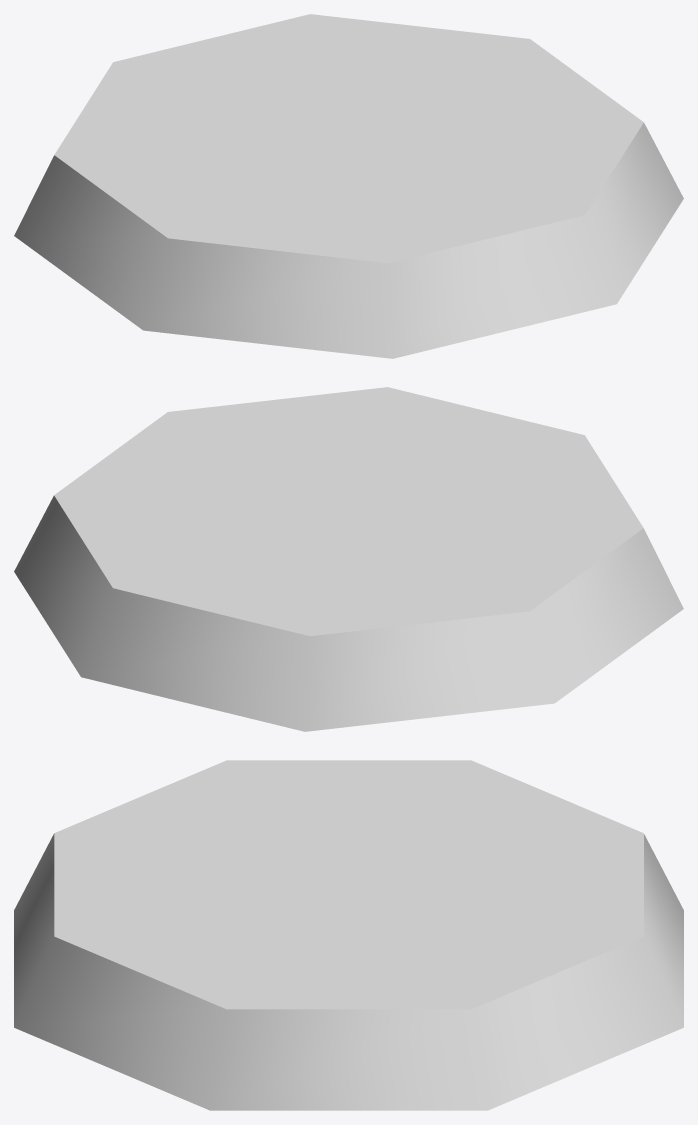
The model's file is Itr_Barchair_Base_06.FBX.
The picture shows the model from 3 angles, top to bottom: view 1: azimuth 30°, elevation 25°; view 2: azimuth 150°, elevation 25°; view 3: azimuth 270°, elevation 25°; orthographic projection. The views are drawn at different scales.
Visible parts, largest first — view 1: Itr_Barchair_Base_06; view 2: Itr_Barchair_Base_06; view 3: Itr_Barchair_Base_06.
Part boxes in pixels (x1,y1,x2,y2): Itr_Barchair_Base_06: (14, 14, 683, 358); Itr_Barchair_Base_06: (14, 387, 683, 731); Itr_Barchair_Base_06: (14, 760, 683, 1110).
Bounding box in the file's own units: 12.19 × 1.69 × 12.19.
